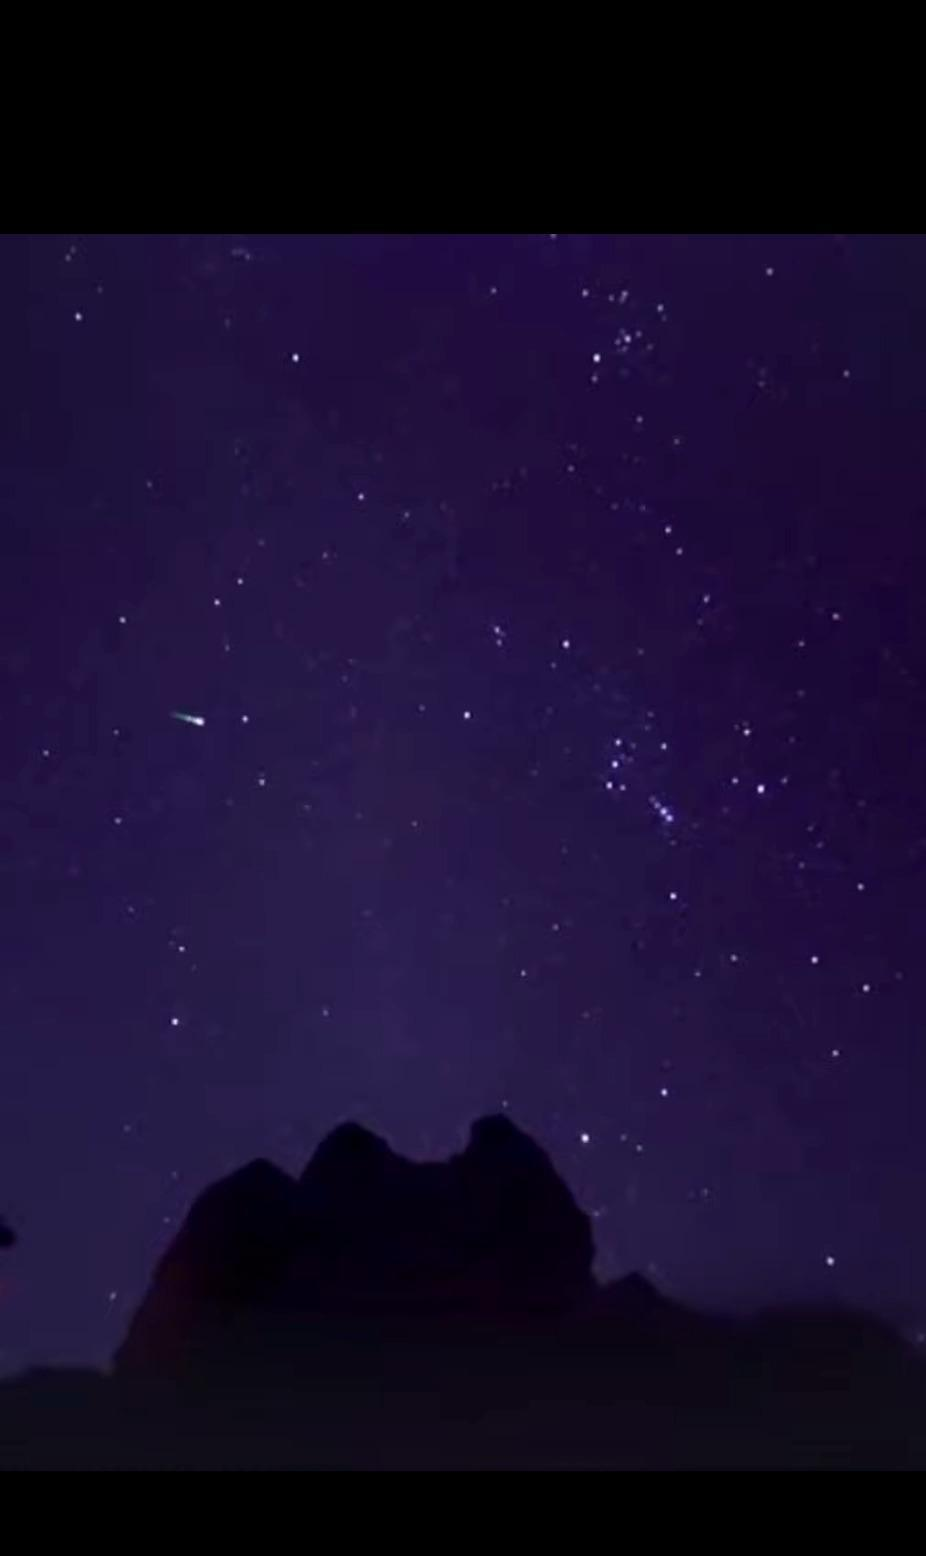meteorite: (150, 693, 220, 743)
